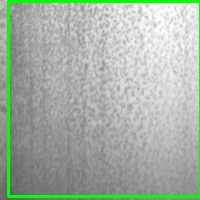pitted_surface: (8, 1, 200, 196)
